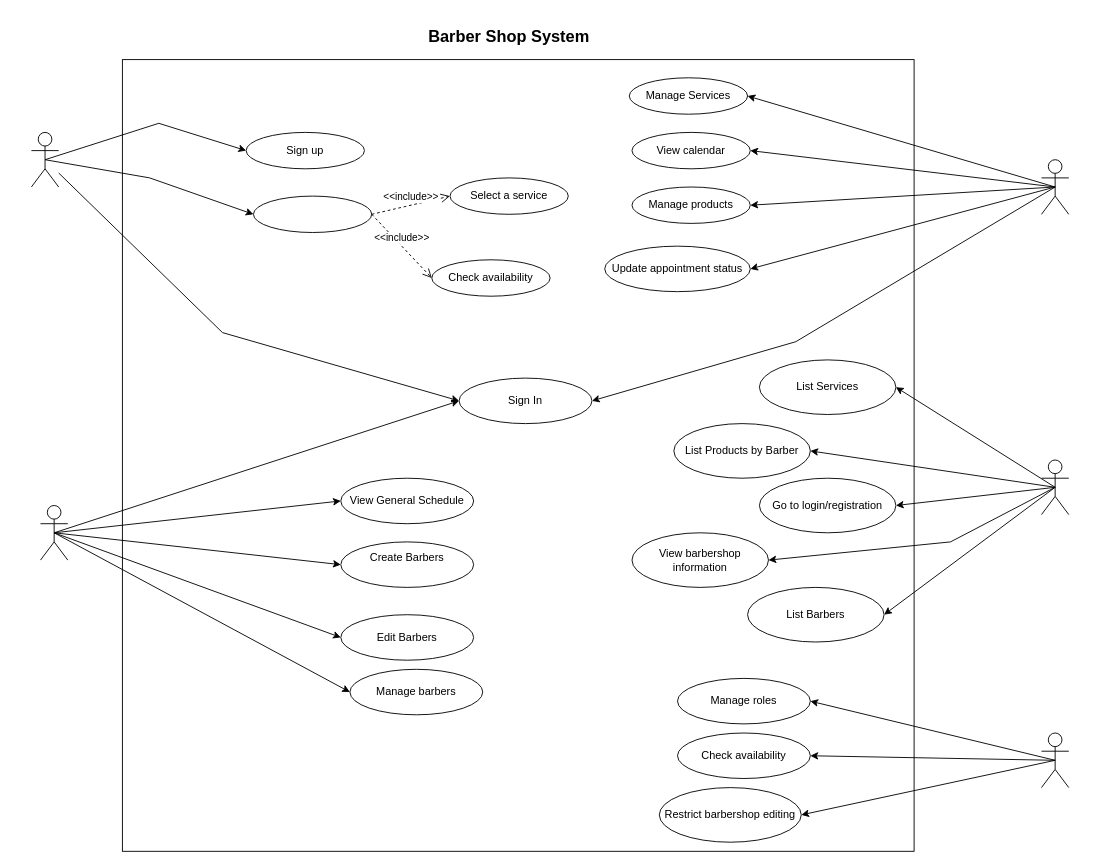
Some shapes in this 1094 by 867 pixel diagram are drawn without their labels. Here are the shapes that lost their labels. From the top down, the box of each, then its label:
(30, 131, 59, 187): Customer
(1041, 159, 1069, 214): Barber
(253, 195, 372, 233): Schedule an appointment
(1041, 459, 1069, 515): Visitor
(40, 505, 68, 560): Owner
(1041, 732, 1069, 788): System
